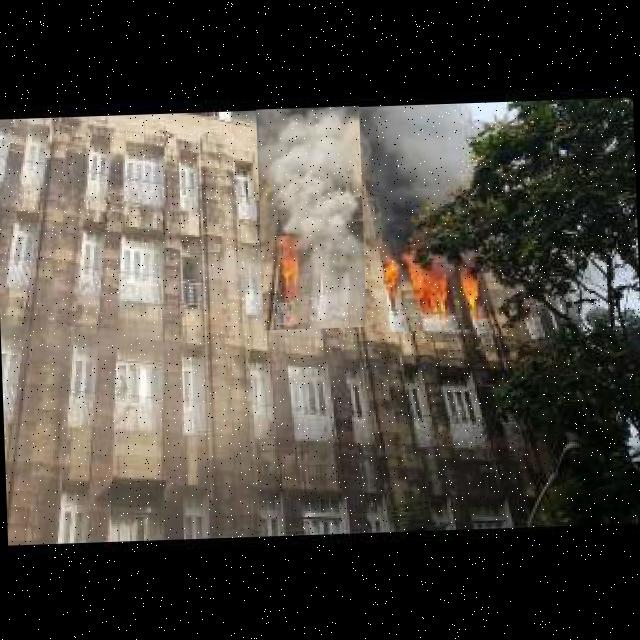fire: (376, 103, 530, 332), (256, 99, 366, 330)
